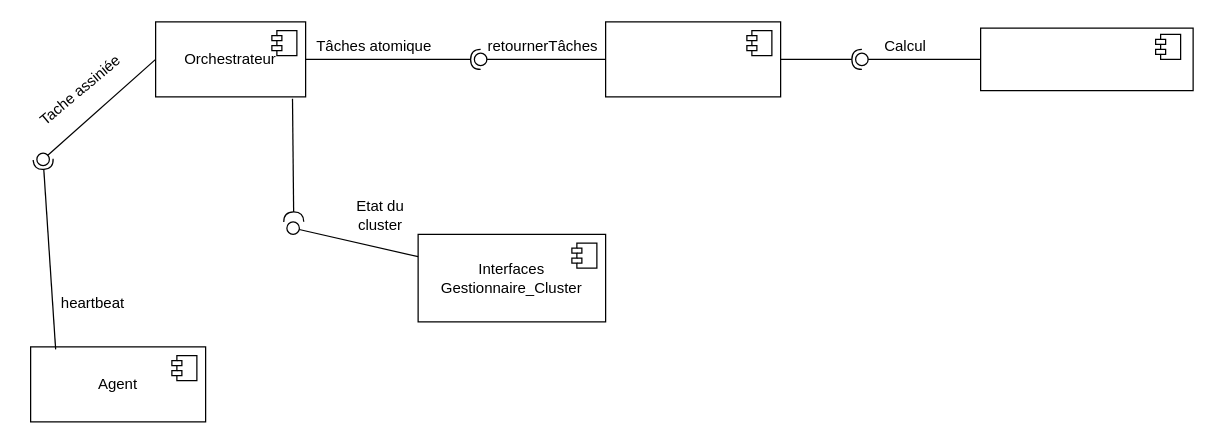
The diagram is 1216 pixels wide and 444 high, and some of its shapes have lost their labels. Each missing label, with the centre of its shape:
"Interface User / CLI" goes at (x=1086, y=59).
"parseur" goes at (x=692, y=59).
